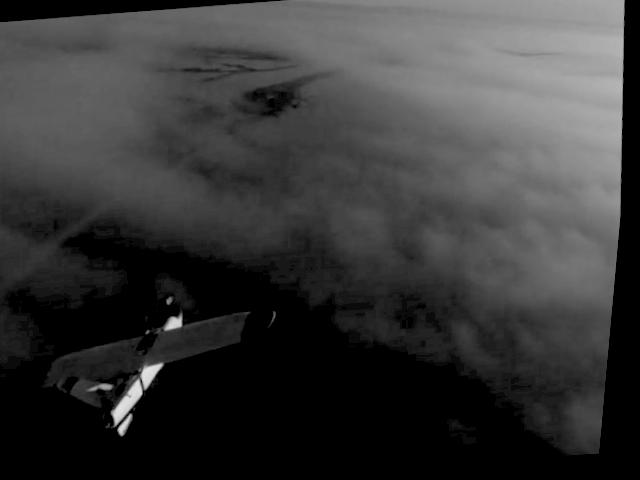hedef: (0, 298, 284, 453)
